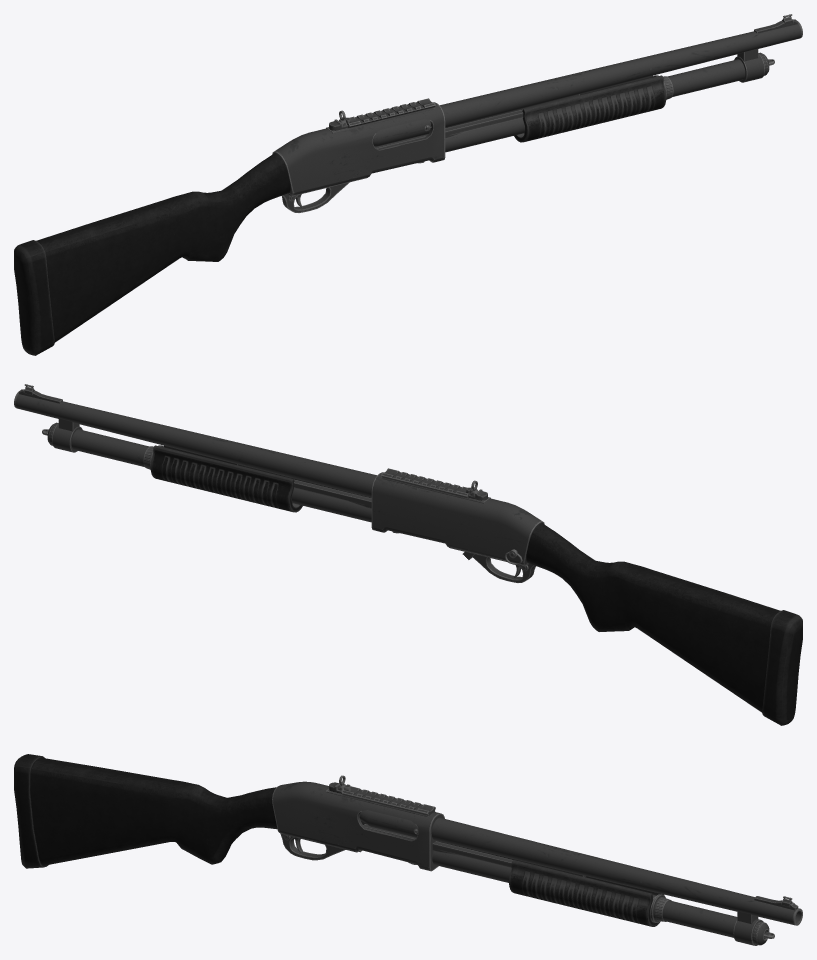
File: remington_870_shotgun.glb
3 views of the same model, one above another, from view 1: azimuth 30°, elevation 25°; view 2: azimuth 150°, elevation 25°; view 3: azimuth 330°, elevation 25° (orthographic).
Parts seen in each view (by area): view 1: Body, Pump; view 2: Body, Pump; view 3: Body, Pump.
Part boxes in pixels (x1=…): Body: x1=14, y1=14, x2=802, y2=355; Pump: x1=373, y1=75, x2=666, y2=146; Body: x1=14, y1=384, x2=802, y2=725; Pump: x1=150, y1=445, x2=302, y2=512; Body: x1=14, y1=754, x2=802, y2=945; Pump: x1=359, y1=810, x2=664, y2=926.
Size of the model in its own units: 1.15 by 0.2345 by 0.05.
Materials: 1 (1 with a texture image).
